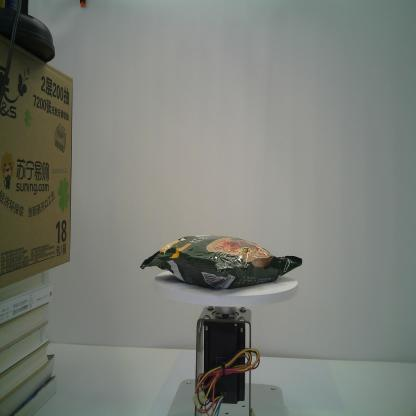Instant Noodles: (140, 232, 304, 293)
